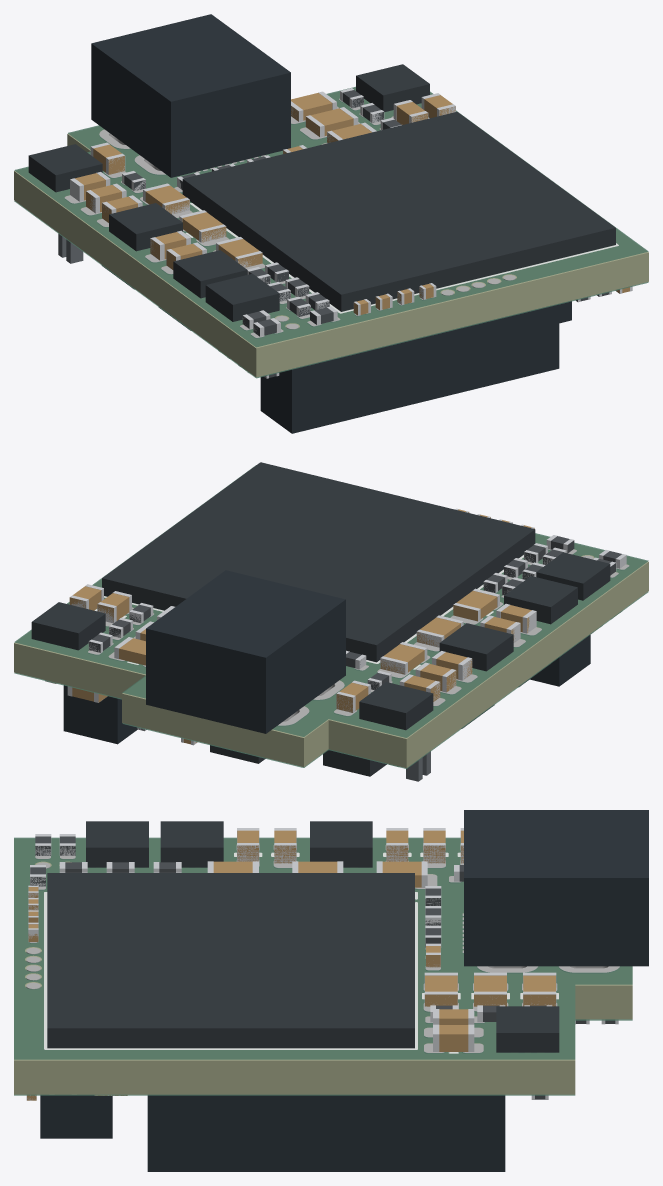
Rendered from board-v6.glb.
The picture shows the model from 3 angles, top to bottom: view 1: azimuth 30°, elevation 25°; view 2: azimuth 150°, elevation 25°; view 3: azimuth 270°, elevation 25°; orthographic projection. The views are drawn at different scales.
Visible parts, largest first — view 1: U1, PCB_Surface_6, J3, J2, PCB_Surface_4, PCB_Surface_1, U13, U16, U3, U4, U2, C42 (+12 smaller); view 2: U1, PCB_Surface_6, J3, PCB_Surface_4, J1, U3, U16, U4, U2, U13, PCB_Surface_1, J2 (+14 smaller); view 3: U1, PCB_Surface_6, J3, J1, PCB_Surface_4, J2, U16, U13, U2, PCB_Surface_1, U4, PCB_Surface_2 (+13 smaller).
Boxes of the visible parts, x1,y1,x2,y2 form: U1: (182, 112, 615, 311); PCB_Surface_6: (14, 88, 648, 377); J3: (91, 14, 290, 177); J2: (260, 304, 559, 433); PCB_Surface_4: (14, 86, 648, 347); PCB_Surface_1: (64, 98, 515, 338); U13: (205, 273, 279, 321); U16: (356, 64, 429, 112); U3: (28, 144, 102, 192); U4: (109, 203, 182, 251); U2: (173, 250, 247, 298); C42: (179, 210, 226, 242); U1: (102, 462, 535, 662); PCB_Surface_6: (14, 535, 648, 767); J3: (146, 570, 345, 733); PCB_Surface_4: (14, 465, 648, 737); J1: (63, 685, 137, 744); U3: (359, 682, 433, 730); U16: (31, 602, 105, 650); U4: (439, 623, 513, 671); U2: (504, 576, 577, 624); U13: (536, 552, 610, 600); PCB_Surface_1: (88, 549, 629, 725); J2: (530, 634, 590, 686); U1: (47, 873, 414, 1048); PCB_Surface_6: (14, 839, 632, 1094); J3: (464, 810, 648, 966); J1: (147, 1095, 505, 1171); PCB_Surface_4: (14, 837, 632, 1059); J2: (40, 1095, 112, 1138); U16: (496, 1006, 559, 1052); U13: (86, 821, 148, 867); U2: (160, 821, 223, 867); PCB_Surface_1: (26, 845, 619, 1053); U4: (310, 821, 372, 867); PCB_Surface_2: (44, 852, 558, 1053).
Bounding box in the file's own units: 0.0216 × 0.00962 × 0.0261.
